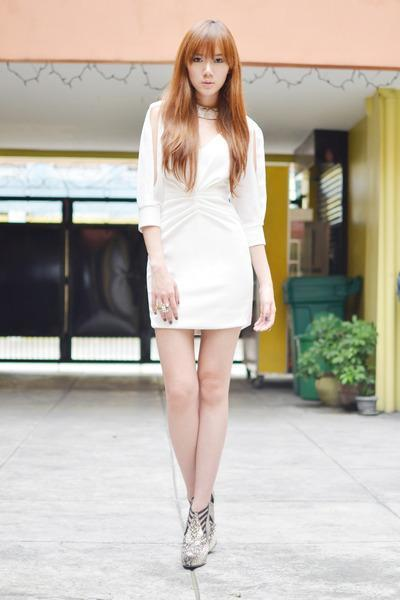dress: (132, 100, 287, 328)
shoe: (179, 516, 215, 569)
